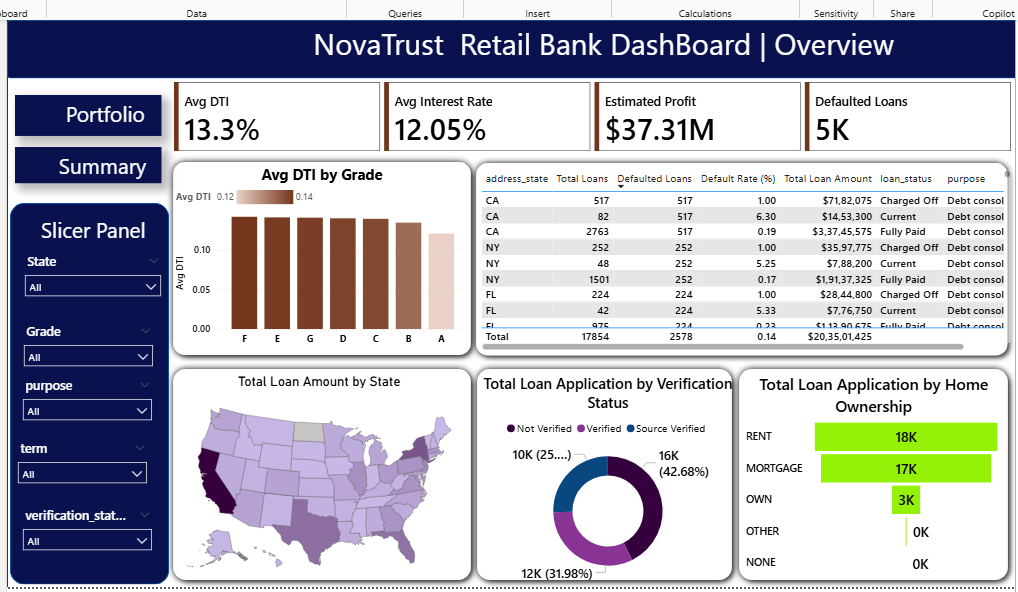

Layout of this report page (visuals, bound fields, positions):
{"tool":"powerbi","page":{"name":"Overview","canvas":[1280,720],"ordinal":1},"visuals":[{"type":"shape","box":[0,0,1400,850.2],"z":0},{"type":"shape","box":[0,0,1400.3,74.2],"z":1000},{"type":"shape","box":[201.9,171.4,396.2,262.9],"z":2000},{"type":"shape","box":[201.9,434.3,396.2,285.7],"z":3000},{"type":"shape","box":[587.9,434.3,341.6,285.7],"z":4000},{"type":"shape","box":[587.2,172.2,692.8,262.3],"z":5000},{"type":"cardVisual","fields":{"Data":["NovaTrust Retail Bank  Analysis.Avg DTI","NovaTrust Retail Bank  Analysis.Avg Interest Rate","NovaTrust Retail Bank  Analysis.Estimated Profit","NovaTrust Retail Bank  Analysis.Defaulted Loans"]},"box":[206.4,74.2,1073.6,98],"z":6000},{"type":"shape","box":[920.6,434.3,359.4,285.7],"z":7000},{"type":"columnChart","title":"Avg DTI by Grade","fields":{"Category":["NovaTrust Retail Bank  Analysis.grade"],"Y":["NovaTrust Retail Bank  Analysis.Avg DTI"]},"box":[209.2,182.3,380.8,239.6],"z":8000},{"type":"tableEx","fields":{"Values":["NovaTrust Retail Bank  Analysis.address_state","NovaTrust Retail Bank  Analysis.Total Loans","NovaTrust Retail Bank  Analysis.Defaulted Loans","NovaTrust Retail Bank  Analysis.Default Rate (%)","NovaTrust Retail Bank  Analysis.Total Loan Amount","NovaTrust Retail Bank  Analysis.loan_status","NovaTrust Retail Bank  Analysis.purpose"]},"box":[596.9,185.9,683.1,238.8],"z":9000},{"type":"shapeMap","title":"Total Loan Amount by State","fields":{"Category":["NovaTrust Retail Bank  Analysis.address_state"],"Value":["NovaTrust Retail Bank  Analysis.Total Loan Amount"]},"box":[205.5,448.2,381.7,272],"z":10000},{"type":"donutChart","title":"Total Loan Application by Verification Status","fields":{"Category":["NovaTrust Retail Bank  Analysis.verification_status"],"Y":["NovaTrust Retail Bank  Analysis.Total Loans"]},"box":[597.1,448.7,332.5,271.7],"z":11000},{"type":"funnel","title":"Total Loan Application by Home Ownership","fields":{"Y":["NovaTrust Retail Bank  Analysis.Total Loans"],"Category":["NovaTrust Retail Bank  Analysis.home_ownership"]},"box":[933.2,448.7,334.3,268.2],"z":12000},{"type":"textbox","box":[312.8,0,901,71.5],"z":13000},{"type":"textbox","box":[10.4,95,185.6,52],"z":14000},{"type":"textbox","box":[10.4,161.9,185.6,46],"z":15000},{"type":"shape","box":[3.6,232.4,202,484.5],"z":16000},{"type":"slicer","fields":{"Values":["NovaTrust Retail Bank  Analysis.address_state"]},"box":[12.7,290.8,193,69.8],"z":17000},{"type":"slicer","fields":{"Values":["NovaTrust Retail Bank  Analysis.grade"]},"box":[11.4,379.7,184.1,68.6],"z":18000},{"type":"slicer","fields":{"Values":["NovaTrust Retail Bank  Analysis.purpose"]},"box":[10.2,448.3,184.1,76.2],"z":19000},{"type":"slicer","fields":{"Values":["NovaTrust Retail Bank  Analysis.term"]},"box":[3.8,528.3,184.1,85.1],"z":20000},{"type":"slicer","fields":{"Values":["NovaTrust Retail Bank  Analysis.verification_status"]},"box":[10.2,613.3,184.1,74.9],"z":21000},{"type":"textbox","box":[38,242,156,48],"z":22000}]}

Visuals, with their boxes in screenshot pixels (x1, y1, x2, y2):
shape: [5,16,1017,591]
shape: [5,16,1017,74]
shape: [164,150,474,357]
shape: [164,357,474,581]
shape: [466,357,734,581]
shape: [466,151,1009,357]
cardVisual - NovaTrust Retail Bank  Analysis.Avg DTI x NovaTrust Retail Bank  Analysis.Avg Interest Rate: [167,74,1009,151]
shape: [727,357,1009,581]
"Avg DTI by Grade" columnChart: [169,159,468,347]
tableEx - NovaTrust Retail Bank  Analysis.address_state x NovaTrust Retail Bank  Analysis.Total Loans: [473,162,1009,349]
"Total Loan Amount by State" shapeMap: [166,367,466,581]
"Total Loan Application by Verification Status" donutChart: [474,368,734,581]
"Total Loan Application by Home Ownership" funnel: [737,368,999,578]
textbox: [251,16,957,72]
textbox: [13,90,159,131]
textbox: [13,143,159,179]
shape: [8,198,167,578]
slicer - NovaTrust Retail Bank  Analysis.address_state: [15,244,167,299]
slicer - NovaTrust Retail Bank  Analysis.grade: [14,314,159,368]
slicer - NovaTrust Retail Bank  Analysis.purpose: [13,368,158,427]
slicer - NovaTrust Retail Bank  Analysis.term: [8,430,153,497]
slicer - NovaTrust Retail Bank  Analysis.verification_status: [13,497,158,556]
textbox: [35,206,157,243]
